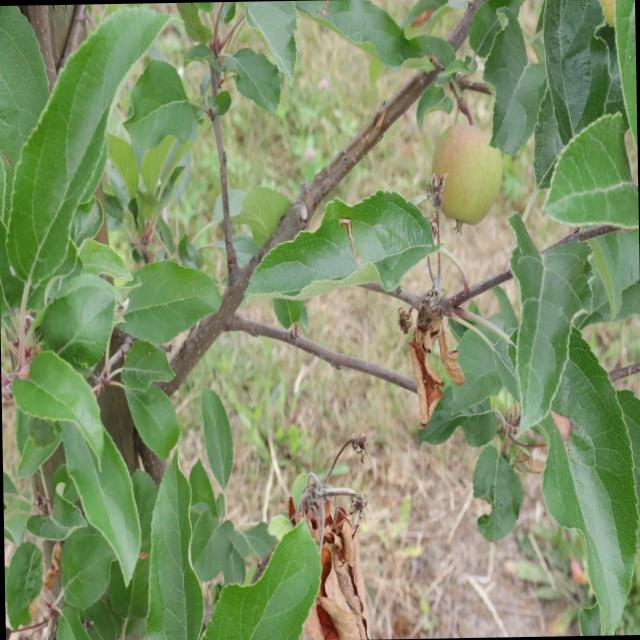-FireBlight-: (290, 484, 385, 640), (395, 296, 467, 412)
